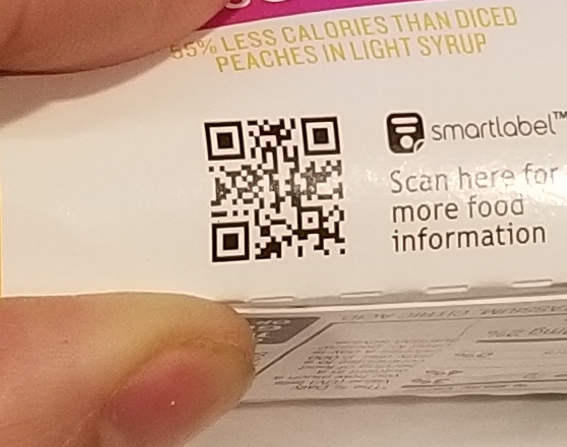QR_CODE: (190, 101, 359, 269)
